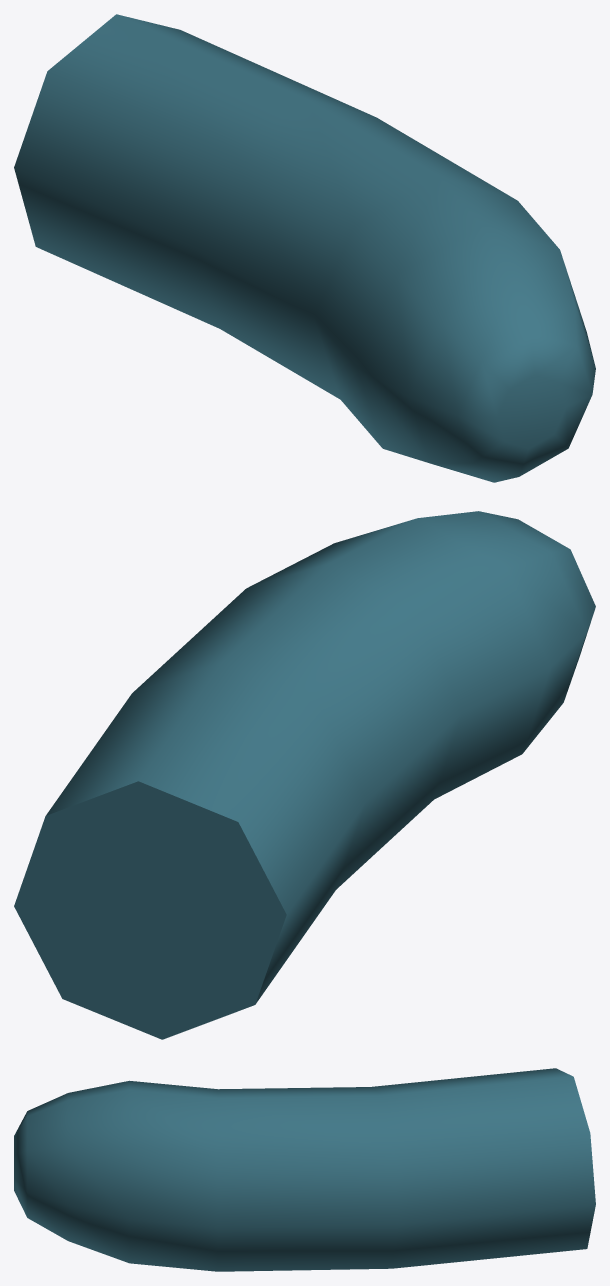
Rendered from SM_SmallTrashkit_sigaret_002.fbx.
3 views of the same model, one above another, from view 1: azimuth 30°, elevation 25°; view 2: azimuth 150°, elevation 25°; view 3: azimuth 270°, elevation 25° (orthographic). The views are drawn at different scales.
Parts seen in each view (by area): view 1: SM_SmallTrashkit_sigaret_002; view 2: SM_SmallTrashkit_sigaret_002; view 3: SM_SmallTrashkit_sigaret_002.
Part boxes in pixels (box(x1,y1,x2,y2)): SM_SmallTrashkit_sigaret_002: box(14, 14, 595, 482); SM_SmallTrashkit_sigaret_002: box(14, 511, 595, 1039); SM_SmallTrashkit_sigaret_002: box(14, 1068, 595, 1271).
Bounding box in the file's own units: 2.12 × 1.68 × 5.08.
